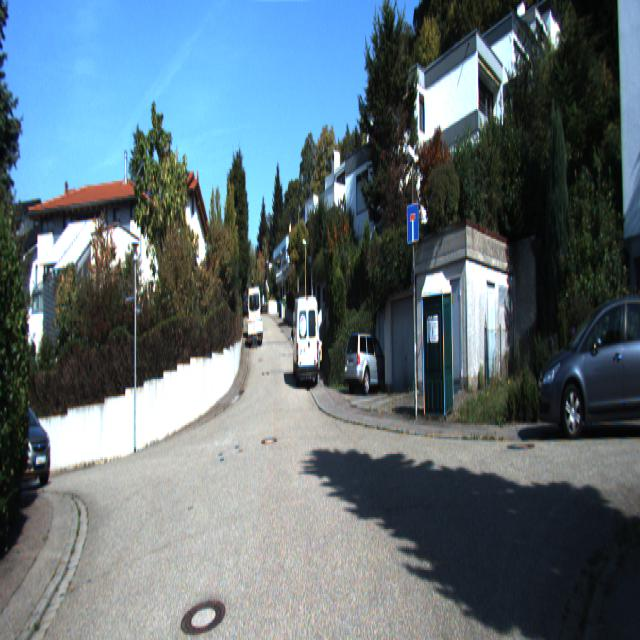Car: (536, 287, 640, 440), (0, 395, 58, 501), (343, 332, 395, 398), (292, 293, 321, 388), (248, 288, 261, 339), (247, 320, 264, 346)
